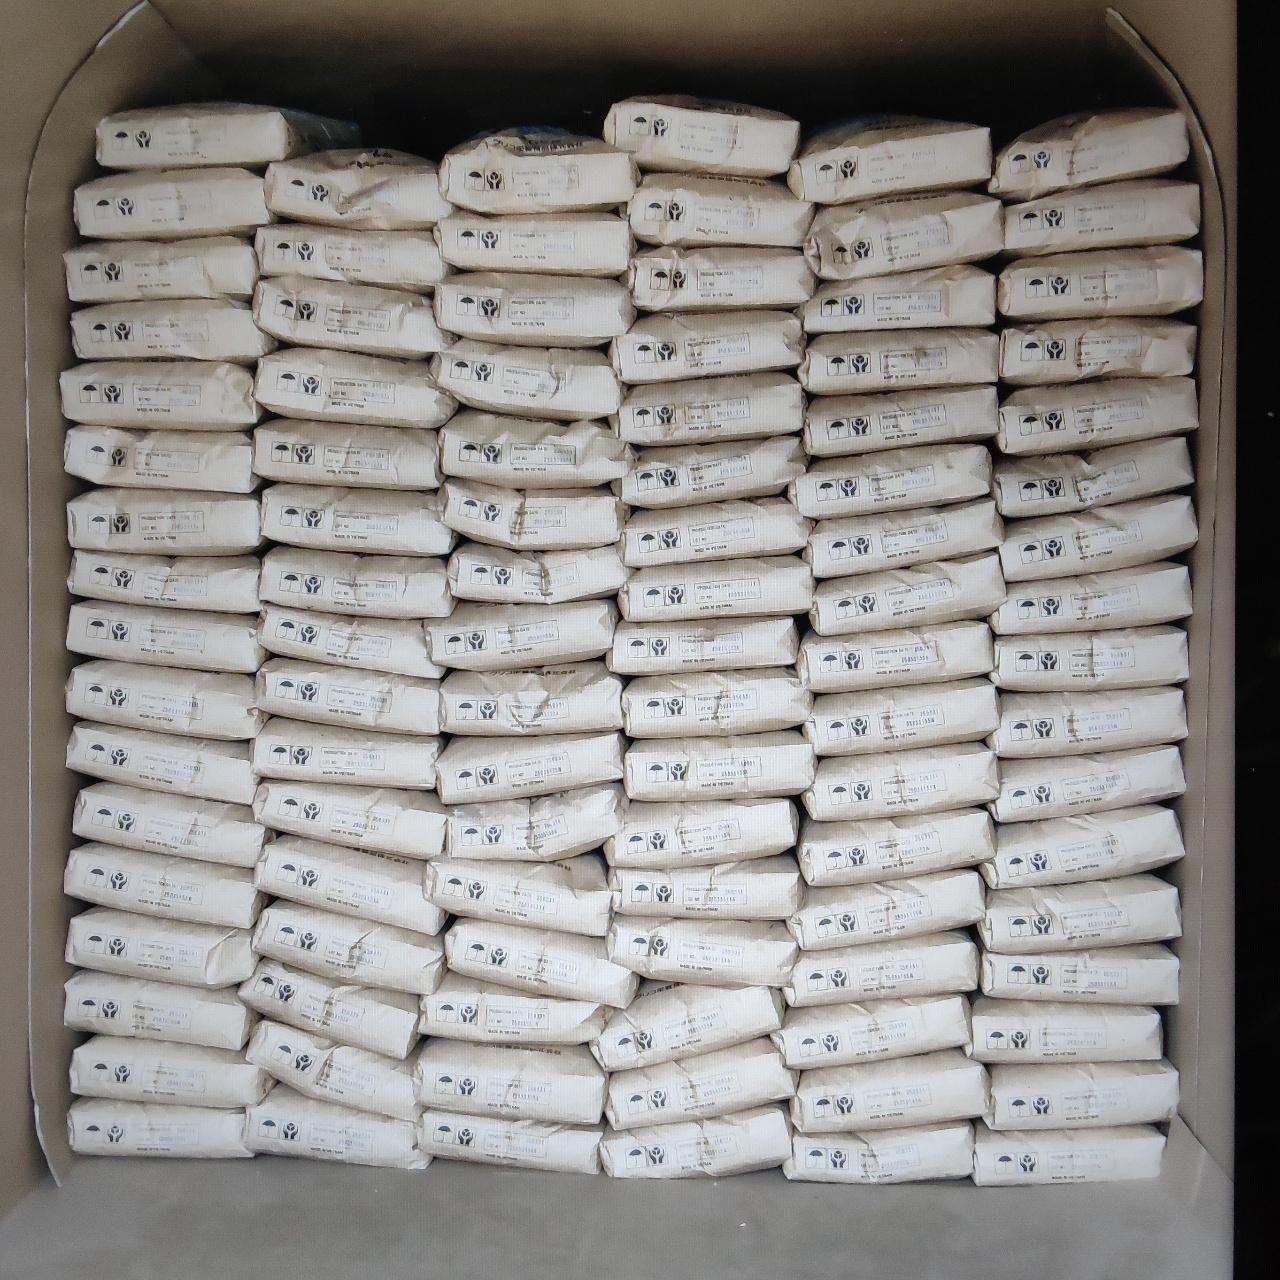sack: (989, 107, 1188, 200), (256, 835, 442, 934), (240, 958, 421, 1058), (787, 115, 990, 204), (64, 843, 274, 928), (606, 1037, 798, 1129), (445, 917, 638, 1008), (590, 981, 784, 1071), (439, 126, 639, 213), (252, 901, 441, 993), (73, 782, 275, 868), (999, 494, 1196, 582), (97, 102, 358, 168), (805, 192, 1003, 279), (981, 805, 1182, 889), (247, 1020, 419, 1118), (411, 1038, 606, 1123), (809, 551, 1005, 635), (791, 1049, 989, 1132), (992, 437, 1192, 518), (255, 347, 457, 427), (978, 873, 1180, 953), (67, 659, 266, 740), (604, 95, 799, 177), (786, 870, 984, 950), (252, 278, 451, 357), (803, 500, 1004, 578), (67, 721, 258, 803), (431, 338, 624, 419), (65, 907, 259, 987), (996, 377, 1197, 454), (440, 409, 638, 487), (65, 970, 258, 1050), (245, 1085, 430, 1168), (802, 742, 997, 820), (805, 678, 999, 756), (997, 246, 1201, 320), (797, 808, 993, 885), (790, 444, 991, 519), (1005, 179, 1199, 256), (426, 855, 610, 936), (266, 149, 451, 229), (990, 746, 1184, 822), (253, 781, 444, 858), (70, 1035, 274, 1107), (434, 272, 635, 345), (989, 562, 1190, 635), (771, 995, 969, 1069), (785, 932, 979, 1007), (74, 167, 273, 240), (619, 173, 815, 247), (66, 600, 263, 673), (609, 310, 803, 384), (446, 783, 629, 861), (986, 687, 1187, 758), (256, 657, 441, 734), (612, 435, 807, 508), (798, 621, 993, 693), (422, 599, 619, 670), (600, 1104, 790, 1177), (62, 361, 262, 430), (260, 547, 453, 618), (610, 373, 800, 445), (252, 717, 444, 788), (805, 386, 997, 457), (260, 605, 444, 679), (441, 661, 625, 735), (605, 798, 799, 868), (262, 484, 453, 555), (607, 914, 798, 985), (801, 265, 994, 335), (438, 478, 627, 549), (622, 668, 813, 738), (618, 497, 809, 567), (421, 972, 611, 1042), (625, 730, 815, 800), (254, 418, 441, 489), (254, 224, 449, 292), (986, 1060, 1178, 1129), (436, 733, 625, 803), (72, 298, 275, 363), (68, 488, 263, 555), (1001, 318, 1196, 385), (799, 329, 998, 394), (65, 237, 258, 303), (65, 426, 258, 492), (435, 212, 634, 276), (618, 557, 814, 621), (972, 1121, 1165, 1185), (967, 997, 1160, 1061), (991, 626, 1187, 689), (628, 246, 815, 311), (67, 549, 259, 612), (610, 855, 799, 917), (980, 945, 1178, 1004), (417, 1110, 600, 1173), (783, 1121, 972, 1182), (69, 1098, 254, 1158), (607, 617, 798, 675), (448, 543, 631, 602)
